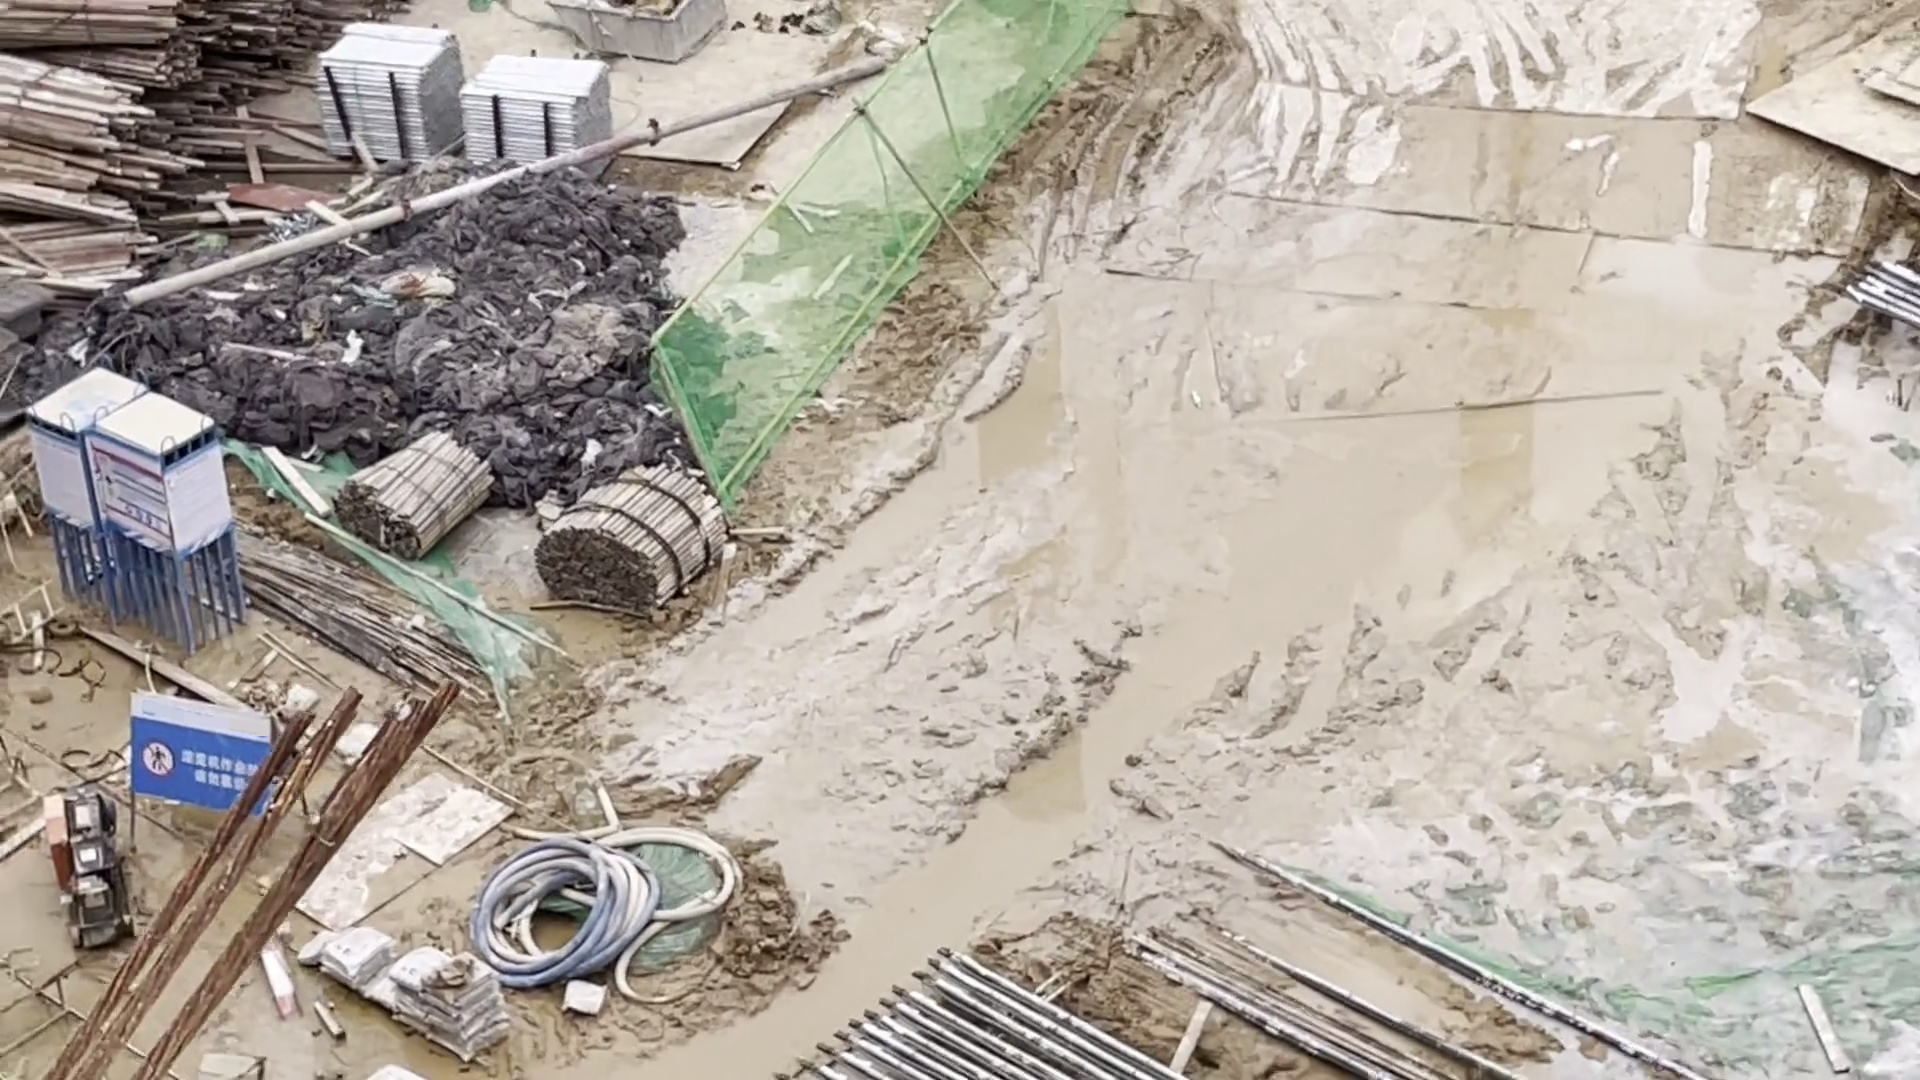hopper: (541, 1, 725, 63)
scaffold: (458, 42, 622, 194), (316, 22, 467, 167)
slogan: (137, 727, 278, 811)
wood: (535, 462, 721, 611), (330, 433, 484, 556)
